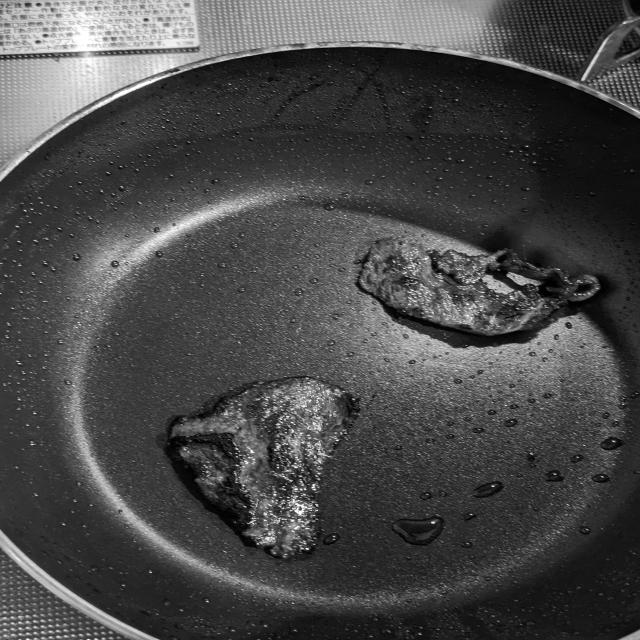overcooked beef,: (154, 371, 378, 571), (345, 231, 614, 341)
